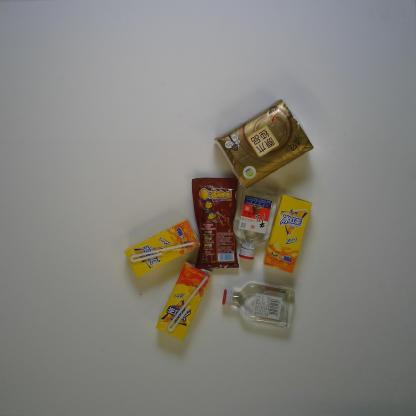Alcohol: (231, 183, 281, 261), (220, 282, 294, 330)
Candy: (192, 175, 240, 272)
Drink: (153, 260, 213, 344), (124, 218, 202, 281), (260, 191, 312, 275)
Tissue: (214, 99, 314, 191)
